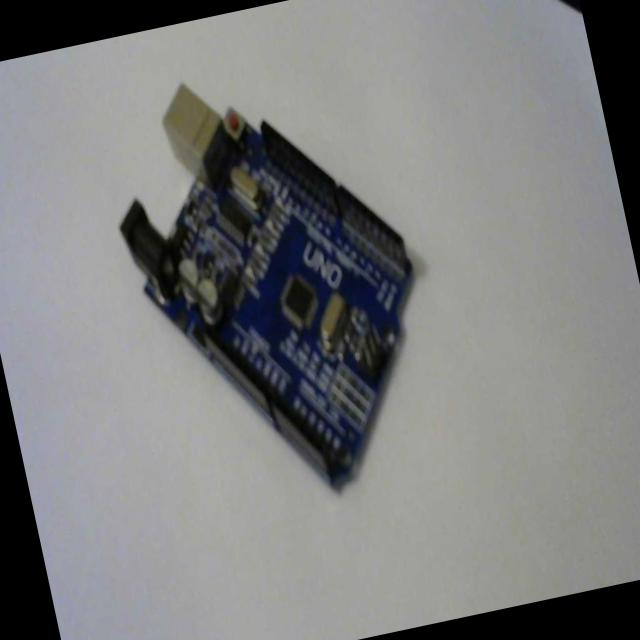arduino: (89, 32, 460, 532)
